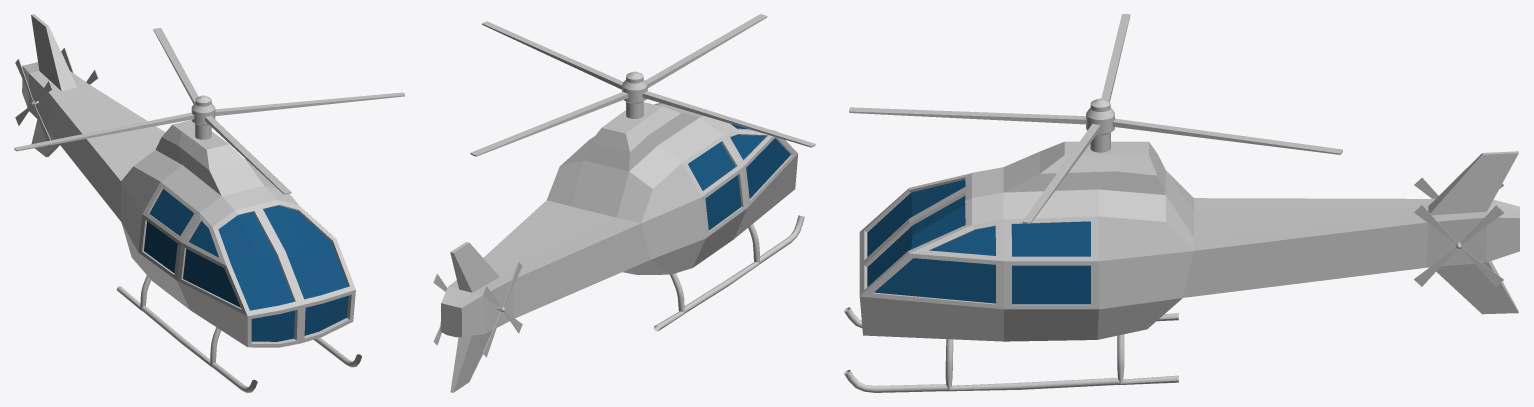
File: helicopter_animation_000047.obj
The picture shows the model from 3 angles, left to right: view 1: azimuth 30°, elevation 25°; view 2: azimuth 150°, elevation 25°; view 3: azimuth 270°, elevation 25°; orthographic projection. The views are drawn at different scales.
Parts seen in each view (by area): view 1: Helicopter.007_Cylinder.008, Helicopter.001_Cylinder.001, Helicopter.004_Cylinder.005; view 2: Helicopter.007_Cylinder.008, Helicopter.001_Cylinder.001, Helicopter.004_Cylinder.005; view 3: Helicopter.007_Cylinder.008, Helicopter.001_Cylinder.001, Helicopter.003_Cylinder.004.
Part boxes in pixels (x1,y1,x2,y2): Helicopter.007_Cylinder.008: (22,14,361,392); Helicopter.001_Cylinder.001: (14,28,404,194); Helicopter.004_Cylinder.005: (15,59,52,147); Helicopter.007_Cylinder.008: (440,102,804,392); Helicopter.001_Cylinder.001: (470,14,815,156); Helicopter.004_Cylinder.005: (482,262,522,357); Helicopter.007_Cylinder.008: (844,141,1519,392); Helicopter.001_Cylinder.001: (849,14,1342,223); Helicopter.003_Cylinder.004: (1414,205,1504,286).
Bounding box in the file's own units: 5.47 × 3.2 × 7.49.
